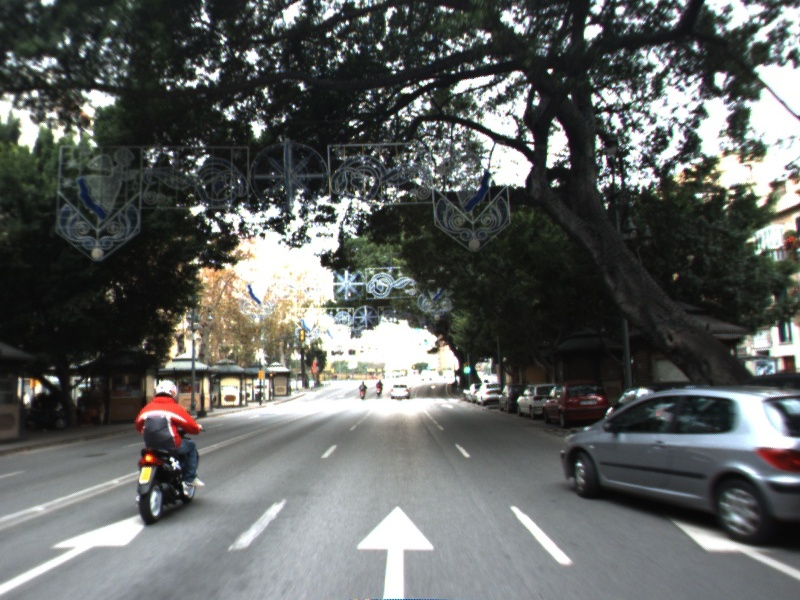STRAIGHT: (1, 511, 152, 595), (664, 512, 800, 581), (351, 500, 440, 600)
